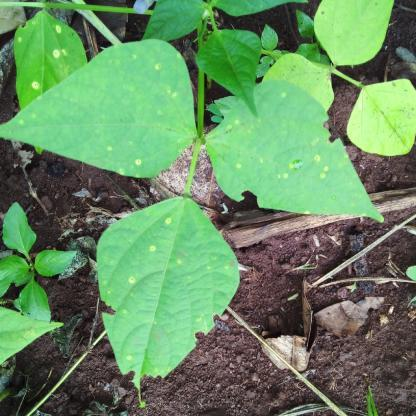Beans_Rust: (96, 196, 238, 386), (0, 38, 195, 175), (204, 85, 387, 220), (14, 12, 81, 106)
